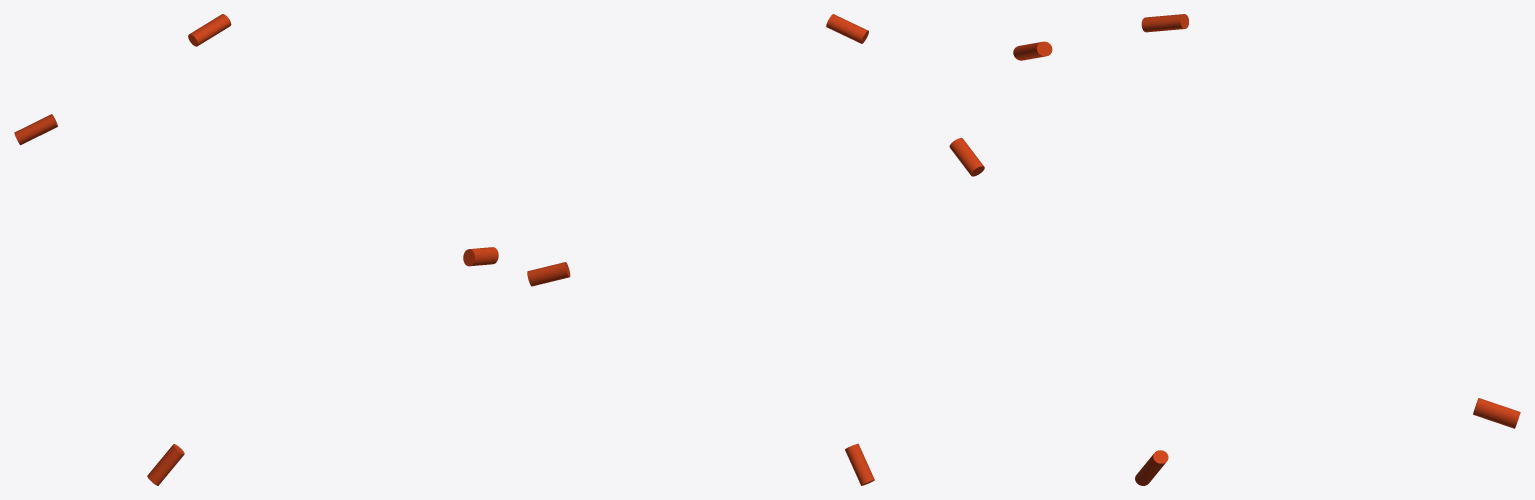
3 renders of one model, left to right at view 1: azimuth 30°, elevation 25°; view 2: azimuth 150°, elevation 25°; view 3: azimuth 330°, elevation 25°, orthographic. The views are drawn at different scales.
Bounding box in the file's own units: 0.77 × 0.7194 × 0.1026.
